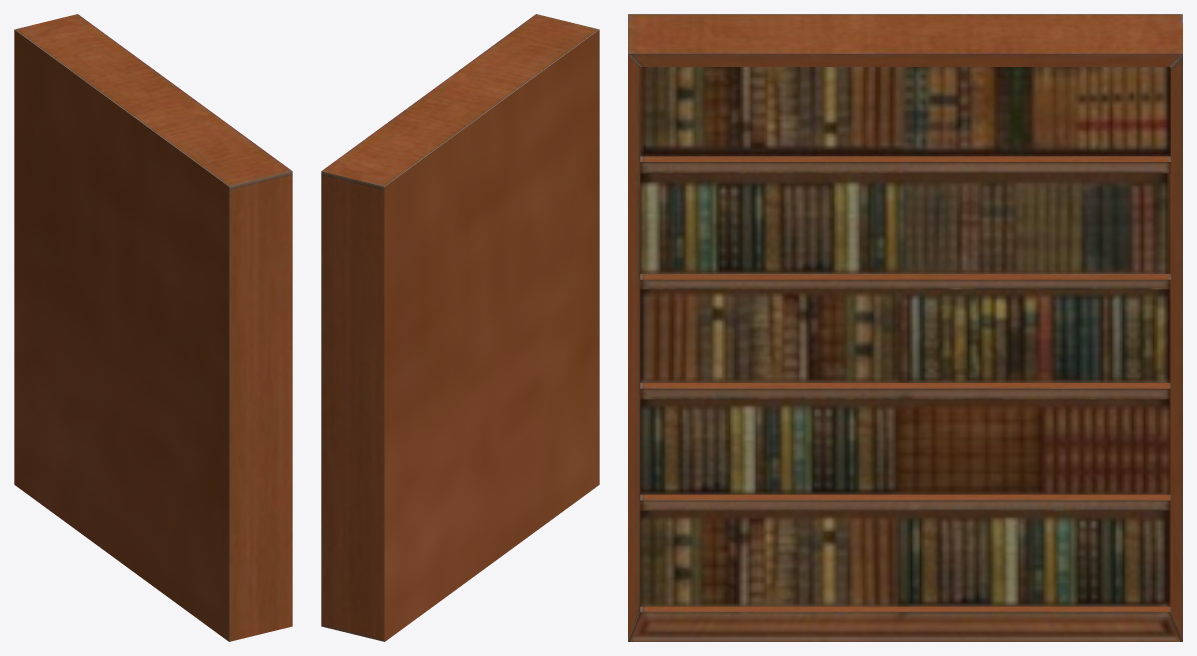
The model's file is bookshelf_psx.glb.
3 renders of one model, left to right at view 1: azimuth 30°, elevation 25°; view 2: azimuth 150°, elevation 25°; view 3: azimuth 270°, elevation 25°, orthographic. The views are drawn at different scales.
Parts seen in each view (by area): view 1: Shelf; view 2: Shelf; view 3: Shelf.
Part boxes in pixels (left/top/right/bottom): Shelf: left=14, top=14, right=292, bottom=641; Shelf: left=321, top=14, right=599, bottom=641; Shelf: left=628, top=14, right=1182, bottom=641.
Bounding box in the file's own units: 1.73 × 11.84 × 10.12.
Materials: 1 (1 with a texture image).
